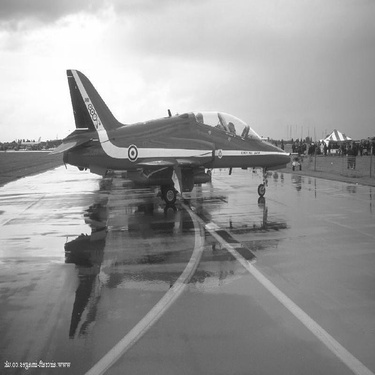airplane: (29, 58, 300, 196)
